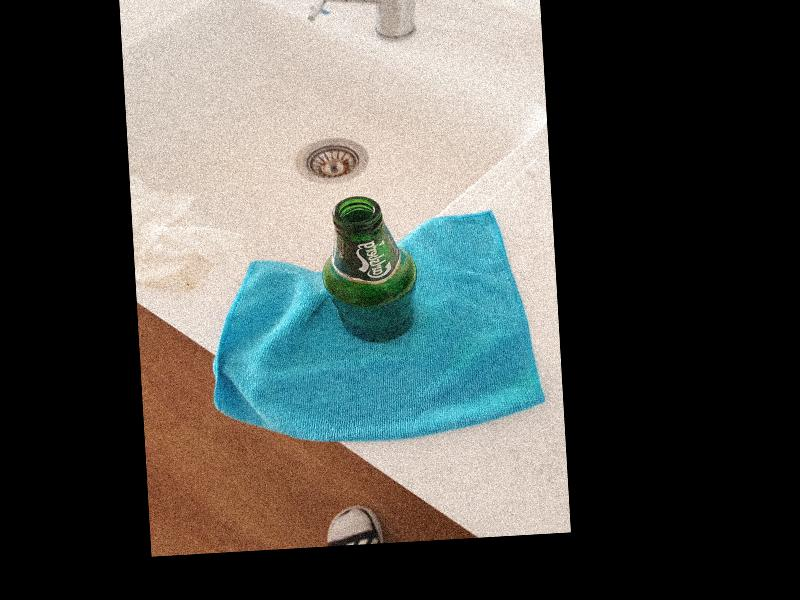Beer: (317, 194, 416, 346)
